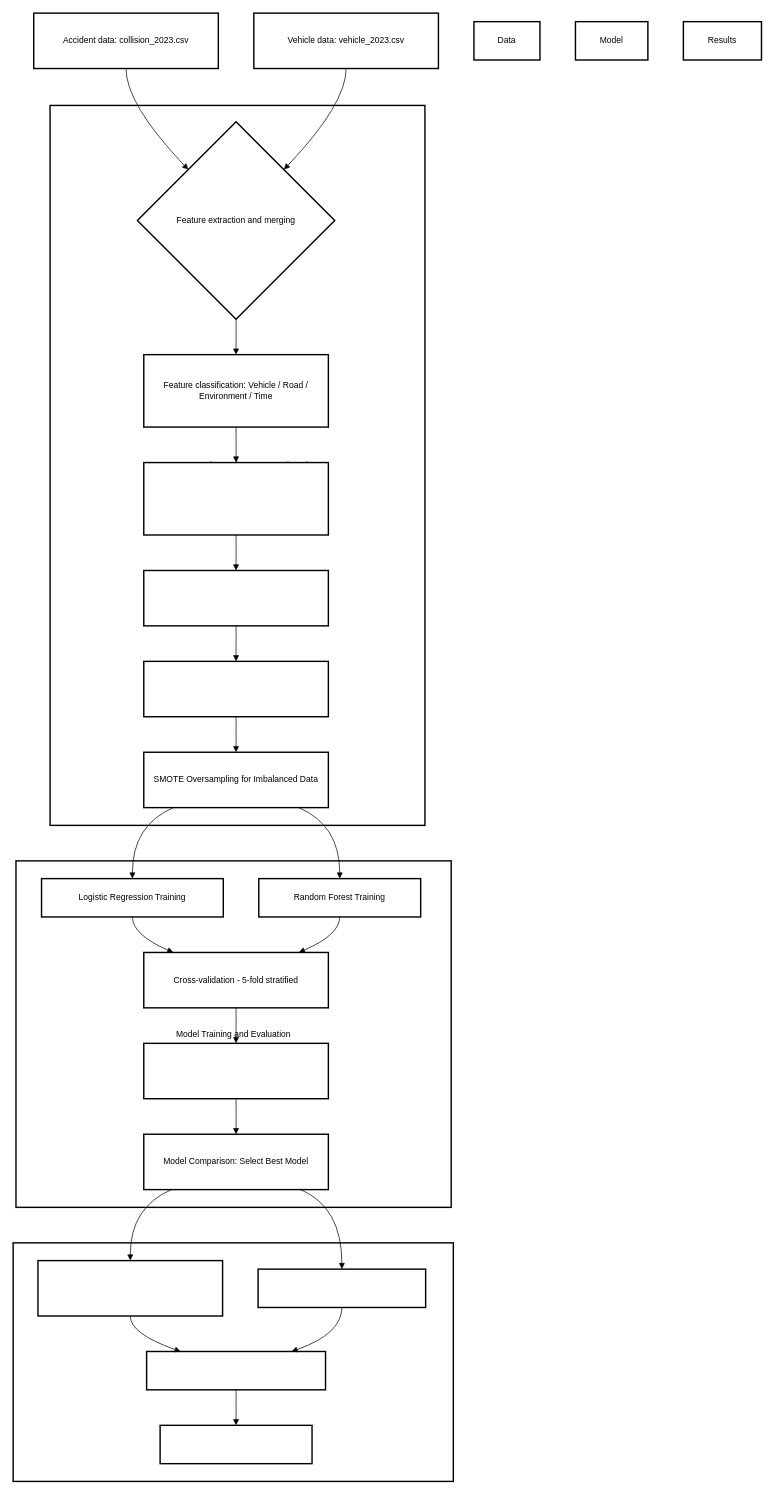
Some shapes in this 774 by 1494 pixel diagram are drawn without their labels. Here are the shapes that lost their labels. From the top down, the centre of each, then its label:
[236,498]: EDA: Time distribution / Environmental correlation / Feature correlation
[236,597]: Feature processing: Encoding / Standardization
[236,688]: PCA Dimensionality Reduction
[236,1070]: Model Evaluation: Weighted F1 Score
[130,1288]: Best Model Analysis: Precision / Recall / F1
[341,1288]: SMOTE Effect Evaluation
[236,1370]: Conclusion and Limitations
[235,1444]: Future Improvements
